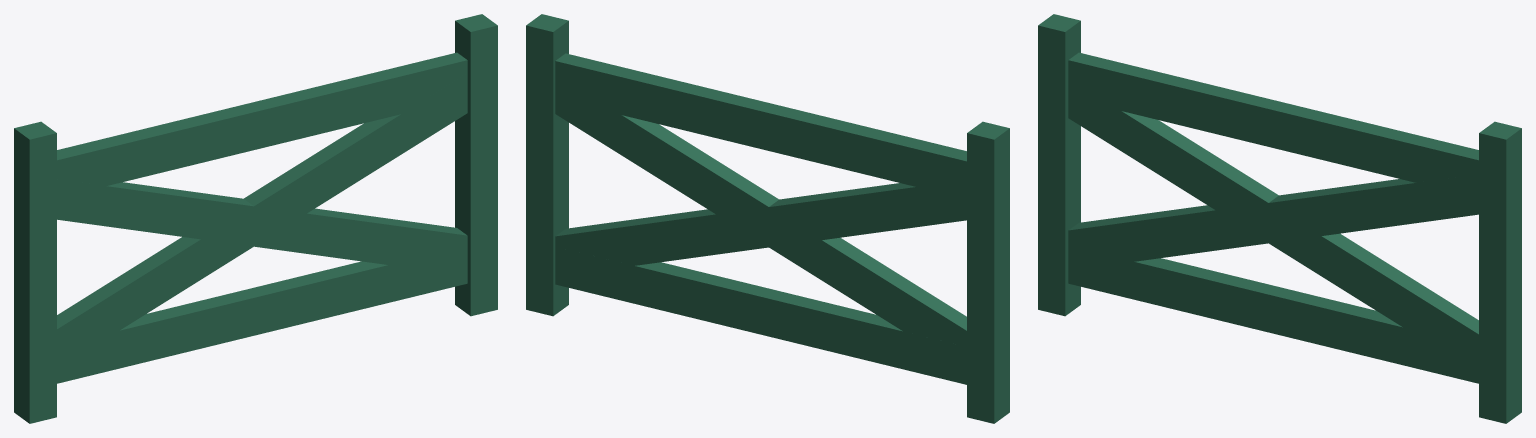
File: cross_fence_3.FBX
3 views of the same model, side by side, from view 1: azimuth 30°, elevation 25°; view 2: azimuth 150°, elevation 25°; view 3: azimuth 330°, elevation 25° (orthographic).
Visible parts, largest first — view 1: cross_fence_3; view 2: cross_fence_3; view 3: cross_fence_3.
Part boxes in pixels (box(x1,y1,x2,y2)): cross_fence_3: box(14, 14, 497, 423); cross_fence_3: box(526, 14, 1009, 423); cross_fence_3: box(1038, 14, 1521, 423).
Size of the model in its own units: 1.35 by 0.7815 by 0.0782.
Materials: 1 (1 with a texture image).
